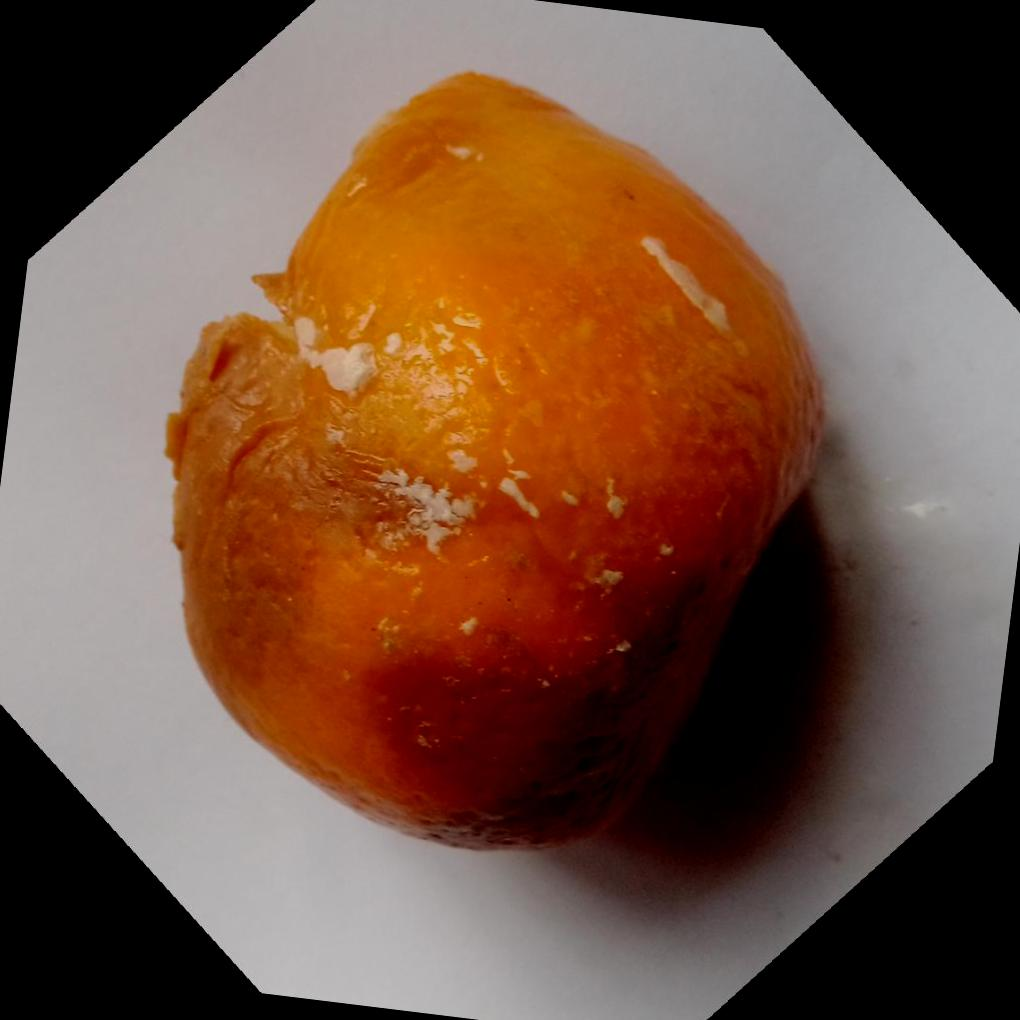FreshOrange: (163, 65, 829, 850)
